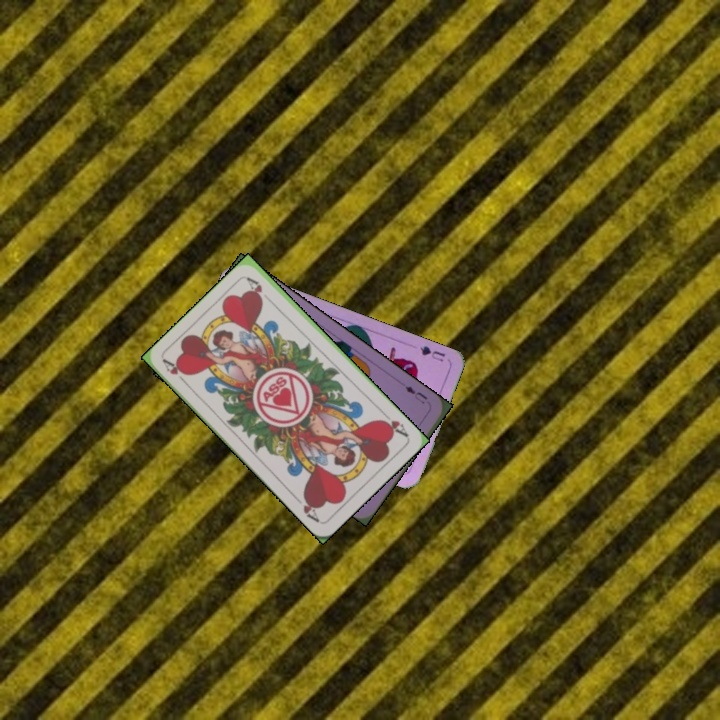EU: (401, 382, 430, 407)
GU: (416, 342, 448, 365)
HA: (376, 407, 411, 440), (159, 356, 192, 389)
